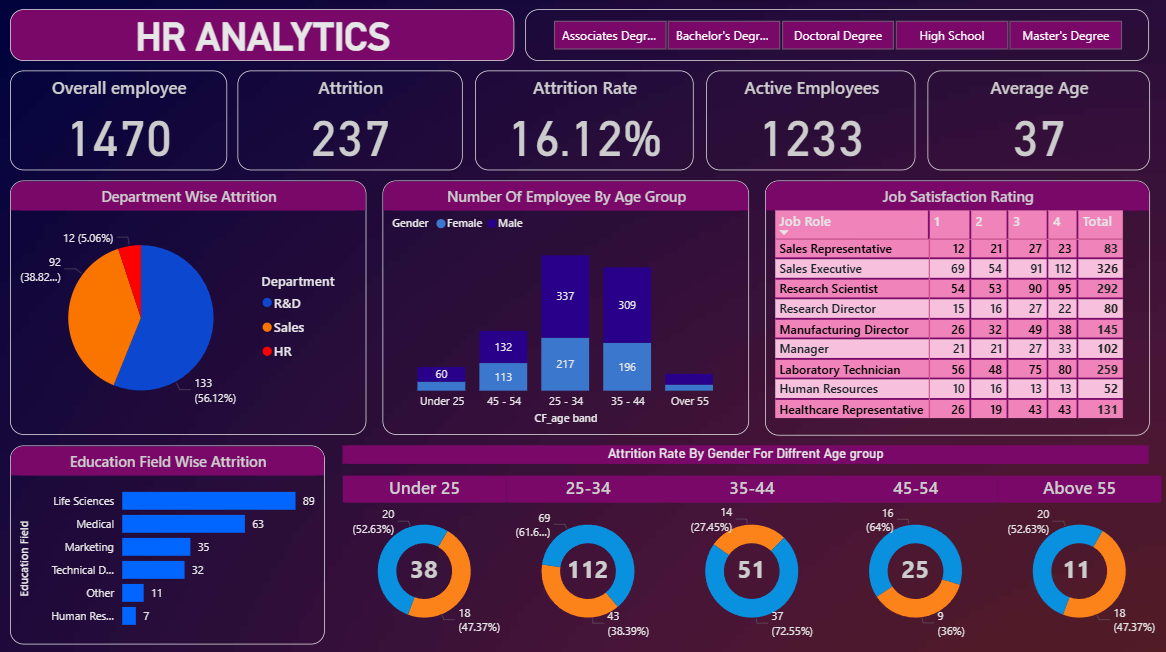

What the dashboard file says about the page in this screenshot:
{"tool":"powerbi","page":{"name":"Page 1","canvas":[1280,720],"ordinal":0},"visuals":[{"type":"card","title":"Overall employee","fields":{"Values":["Sum(HR data.Employee Count)"]},"box":[11.4,79.9,238.4,109.9],"z":0},{"type":"card","title":"Attrition","fields":{"Values":["Sum(HR data.Attrition count)"]},"box":[261.2,79.9,246.9,109.9],"z":1000},{"type":"card","title":"Attrition Rate","fields":{"Values":["HR data.Attrition Rate"]},"box":[521,79.9,239.8,109.9],"z":2000},{"type":"card","title":"Active Employees","fields":{"Values":["HR data.Active Employees"]},"box":[775,79.9,229.8,109.9],"z":3000},{"type":"card","title":"Average Age","fields":{"Values":["Avg(HR data.Age)"]},"box":[1017.7,79.9,244.1,109.9],"z":4000},{"type":"pieChart","title":"Department Wise Attrition","fields":{"Category":["HR data.Department"],"Y":["Sum(HR data.Attrition count)"]},"box":[11.6,199.9,391,279.5],"z":5000},{"type":"columnChart","title":"Number Of Employee By Age Group","fields":{"Category":["HR data.CF_age band"],"Y":["Sum(HR data.Employee Count)"],"Series":["HR data.Gender"]},"box":[420,199.9,402.6,279.5],"z":6000},{"type":"pivotTable","title":"Job Satisfaction Rating","fields":{"Rows":["HR data.Job Role"],"Columns":["HR data.Job Satisfaction"],"Values":["Sum(HR data.Employee Count)"]},"box":[839.3,199.8,422.5,279.8],"z":7000},{"type":"barChart","title":"Education Field Wise Attrition","fields":{"Category":["HR data.Education Field"],"Y":["Sum(HR data.Attrition count)"]},"box":[11.4,491,345.4,218.4],"z":8000},{"type":"donutChart","title":"Under 25","fields":{"Y":["Sum(HR data.Attrition count)"],"Category":["HR data.Gender"],"Series":["HR data.CF_age band"]},"box":[375.4,523.8,179.8,185.5],"z":9000},{"type":"textbox","title":"Attrition Rate By Gender For Diffrent Age group","box":[376.6,491,884.9,20.3],"z":10000},{"type":"donutChart","title":"25-34","fields":{"Y":["Sum(HR data.Attrition count)"],"Category":["HR data.Gender"],"Series":["HR data.CF_age band"]},"box":[555.2,523.8,179.8,185.5],"z":11000},{"type":"donutChart","title":"35-44","fields":{"Y":["Sum(HR data.Attrition count)"],"Category":["HR data.Gender"],"Series":["HR data.CF_age band"]},"box":[735.1,523.8,179.8,185.5],"z":12000},{"type":"donutChart","title":"45-54","fields":{"Y":["Sum(HR data.Attrition count)"],"Category":["HR data.Gender"],"Series":["HR data.CF_age band"]},"box":[914.9,523.8,179.8,185.5],"z":13000},{"type":"donutChart","title":"Above 55","fields":{"Y":["Sum(HR data.Attrition count)"],"Category":["HR data.Gender"],"Series":["HR data.CF_age band"]},"box":[1094.7,523.8,179.8,185.5],"z":14000},{"type":"card","fields":{"Values":["Sum(HR data.Attrition count)"]},"box":[385.4,582.3,159.9,91.3],"z":15000},{"type":"card","fields":{"Values":["Sum(HR data.Attrition count)"]},"box":[565.2,582.3,159.9,91.3],"z":16000},{"type":"card","fields":{"Values":["Sum(HR data.Attrition count)"]},"box":[745.1,582.3,159.9,91.3],"z":17000},{"type":"card","fields":{"Values":["Sum(HR data.Attrition count)"]},"box":[924.9,582.3,159.9,91.3],"z":18000},{"type":"card","fields":{"Values":["Sum(HR data.Attrition count)"]},"box":[1101.9,582.3,159.9,91.3],"z":19000},{"type":"textbox","title":"HR ANALYTICS DASHBOARD","box":[11.4,12.8,553.8,57.1],"z":20000},{"type":"slicer","fields":{"Values":["HR data.Education"]},"box":[576.6,12.8,685.1,57.1],"z":21000}]}

Visuals, with their boxes in screenshot pixels (x1, y1, x2, y2), scaled from the page's 1280x720 canvas onto the 1166x652 screenshot:
"Overall employee" card: [10, 72, 228, 172]
"Attrition" card: [238, 72, 463, 172]
"Attrition Rate" card: [475, 72, 693, 172]
"Active Employees" card: [706, 72, 915, 172]
"Average Age" card: [927, 72, 1149, 172]
"Department Wise Attrition" pieChart: [11, 181, 367, 434]
"Number Of Employee By Age Group" columnChart: [383, 181, 749, 434]
"Job Satisfaction Rating" pivotTable: [765, 181, 1149, 434]
"Education Field Wise Attrition" barChart: [10, 445, 325, 642]
"Under 25" donutChart: [342, 474, 506, 642]
"Attrition Rate By Gender For Diffrent Age group" textbox: [343, 445, 1149, 463]
"25-34" donutChart: [506, 474, 670, 642]
"35-44" donutChart: [670, 474, 833, 642]
"45-54" donutChart: [833, 474, 997, 642]
"Above 55" donutChart: [997, 474, 1161, 642]
card - Sum(HR data.Attrition count): [351, 527, 497, 610]
card - Sum(HR data.Attrition count): [515, 527, 661, 610]
card - Sum(HR data.Attrition count): [679, 527, 824, 610]
card - Sum(HR data.Attrition count): [843, 527, 988, 610]
card - Sum(HR data.Attrition count): [1004, 527, 1149, 610]
"HR ANALYTICS DASHBOARD" textbox: [10, 12, 515, 63]
slicer - HR data.Education: [525, 12, 1149, 63]
